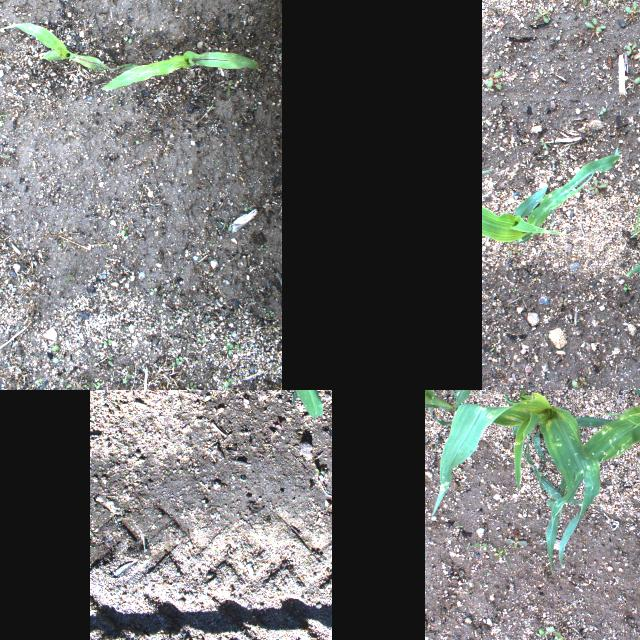crop: (430, 390, 640, 575), (549, 390, 640, 533), (481, 153, 619, 243), (4, 19, 138, 71), (100, 50, 260, 92), (167, 390, 322, 419), (424, 390, 469, 423), (482, 168, 496, 174)
weed: (0, 100, 16, 128), (491, 544, 509, 568), (482, 68, 502, 88), (222, 338, 246, 354), (59, 266, 79, 284), (587, 177, 607, 195), (46, 341, 62, 363), (505, 534, 527, 548), (587, 17, 607, 31), (535, 625, 553, 640), (99, 334, 118, 348), (222, 79, 238, 95), (630, 208, 638, 238), (168, 354, 185, 368), (535, 8, 549, 24), (623, 0, 640, 13), (82, 379, 102, 390), (184, 377, 199, 390), (220, 377, 235, 390), (33, 374, 45, 388), (572, 376, 588, 386), (314, 466, 324, 482), (220, 220, 233, 232), (105, 352, 116, 366), (633, 66, 640, 87), (120, 370, 132, 382), (624, 43, 636, 55), (474, 538, 486, 550), (554, 631, 570, 640), (120, 226, 130, 240), (61, 381, 76, 390), (194, 332, 206, 343), (262, 310, 276, 318), (540, 138, 548, 150), (622, 282, 630, 292), (571, 0, 587, 5), (505, 244, 511, 256), (464, 540, 471, 550), (598, 108, 606, 114), (514, 246, 520, 254), (598, 0, 607, 5), (604, 212, 608, 218), (488, 347, 494, 351), (113, 518, 119, 522), (562, 161, 564, 167)
